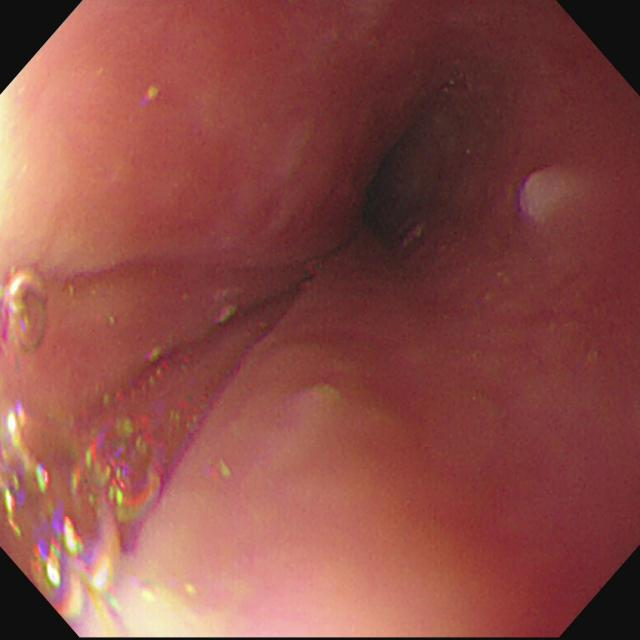J: (519, 164, 575, 224)
T: (2, 270, 51, 354)
U: (36, 516, 132, 640), (71, 414, 166, 516), (2, 402, 54, 537)
